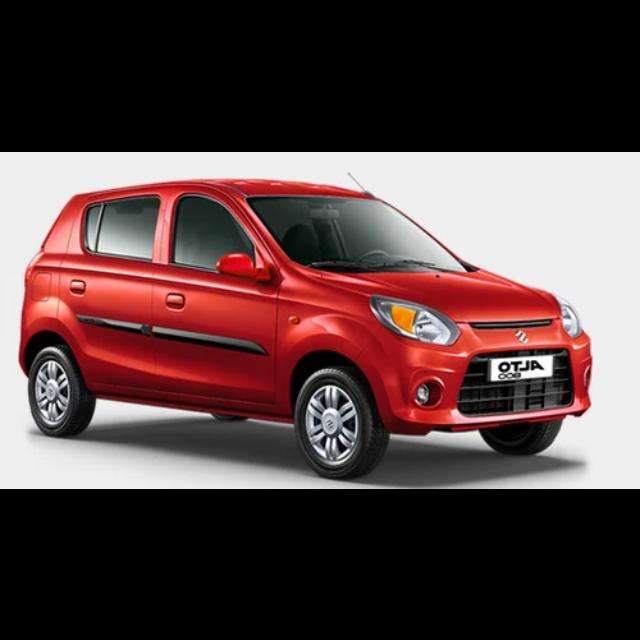number-plate: (488, 353, 556, 381)
vehicles: (23, 178, 602, 483)
